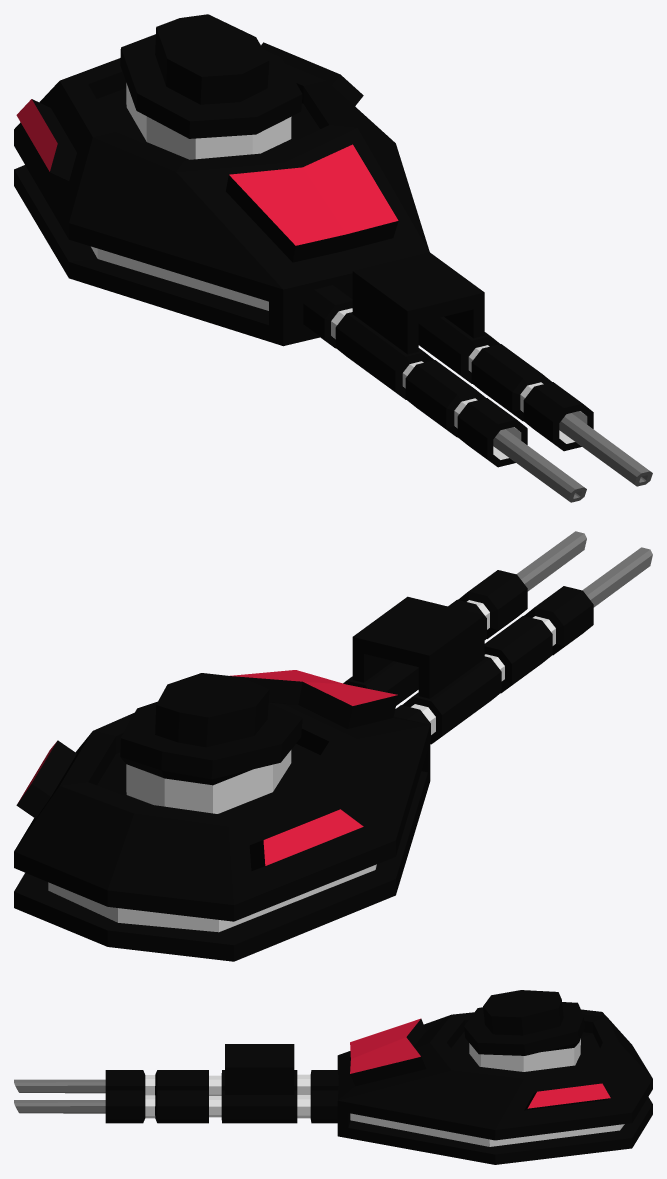
The model's file is LaserGun_3.fbx.
3 views of the same model, one above another, from view 1: azimuth 30°, elevation 25°; view 2: azimuth 150°, elevation 25°; view 3: azimuth 270°, elevation 25° (orthographic). The views are drawn at different scales.
Visible parts, largest first — view 1: LaserGun.002; view 2: LaserGun.002; view 3: LaserGun.002.
Part boxes in pixels (x1=…): LaserGun.002: x1=14, y1=14, x2=652, y2=502; LaserGun.002: x1=14, y1=531, x2=652, y2=961; LaserGun.002: x1=14, y1=990, x2=652, y2=1164.
Bounding box in the file's own units: 35.45 × 18.96 × 94.9.
